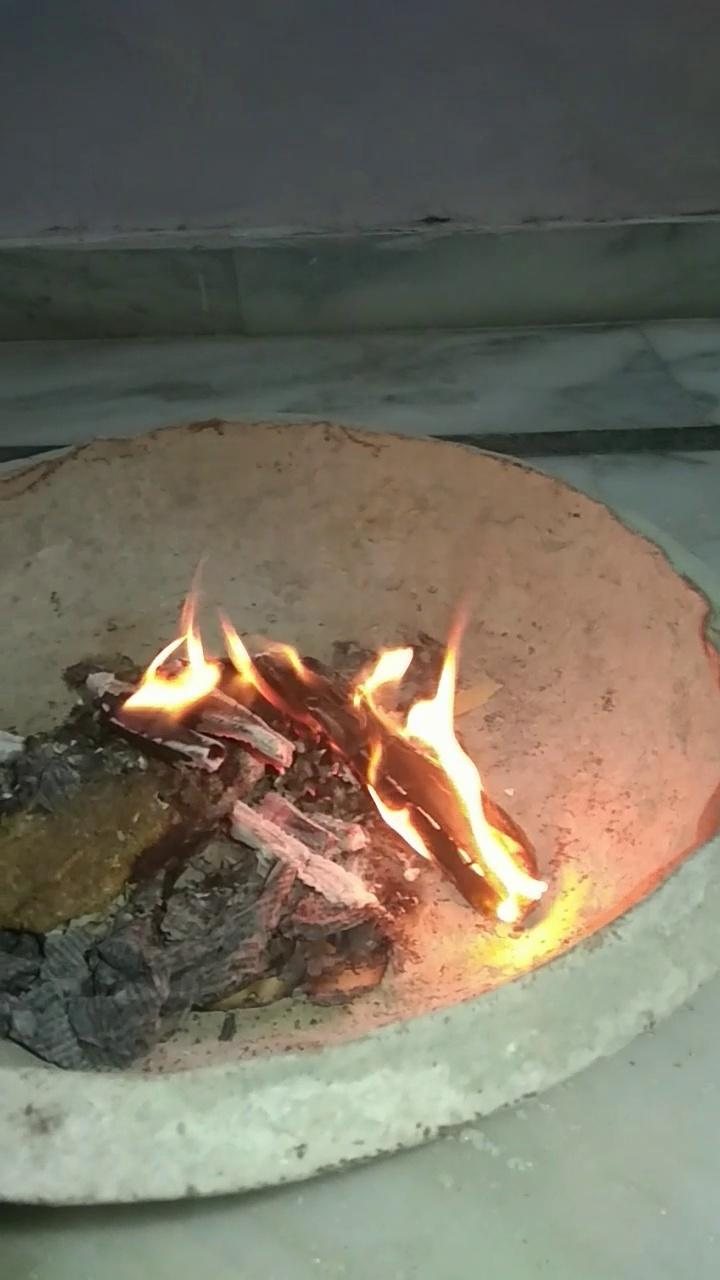fire: (127, 568, 573, 943)
